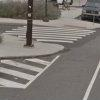Crosswalk: (4, 22, 82, 84)
